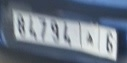4: (63, 20, 74, 48), (28, 15, 38, 40)
6: (103, 31, 116, 55)
7: (40, 16, 49, 42)
8: (16, 13, 27, 35)
9: (50, 18, 60, 44)
h: (82, 27, 95, 48)
